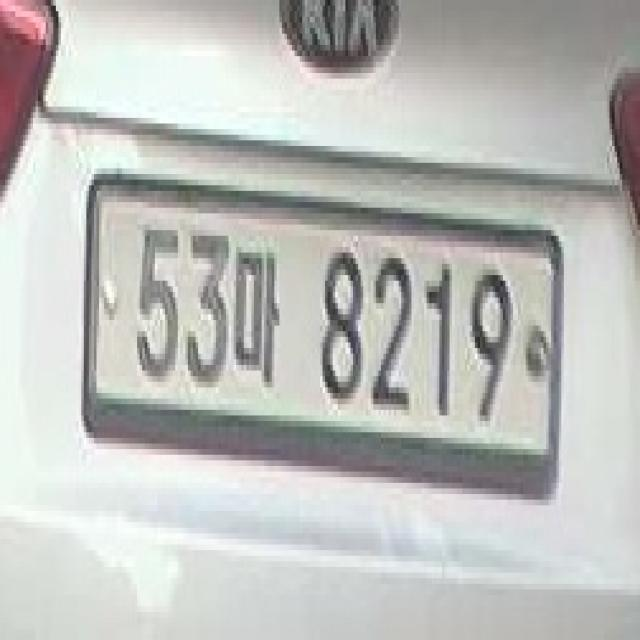1: (419, 247, 460, 421)
2: (371, 253, 419, 427)
3: (180, 219, 229, 393)
5: (122, 208, 188, 393)
8: (320, 247, 371, 421)
9: (464, 247, 516, 438)
license_plate: (84, 157, 571, 545)
ma: (228, 241, 290, 393)
